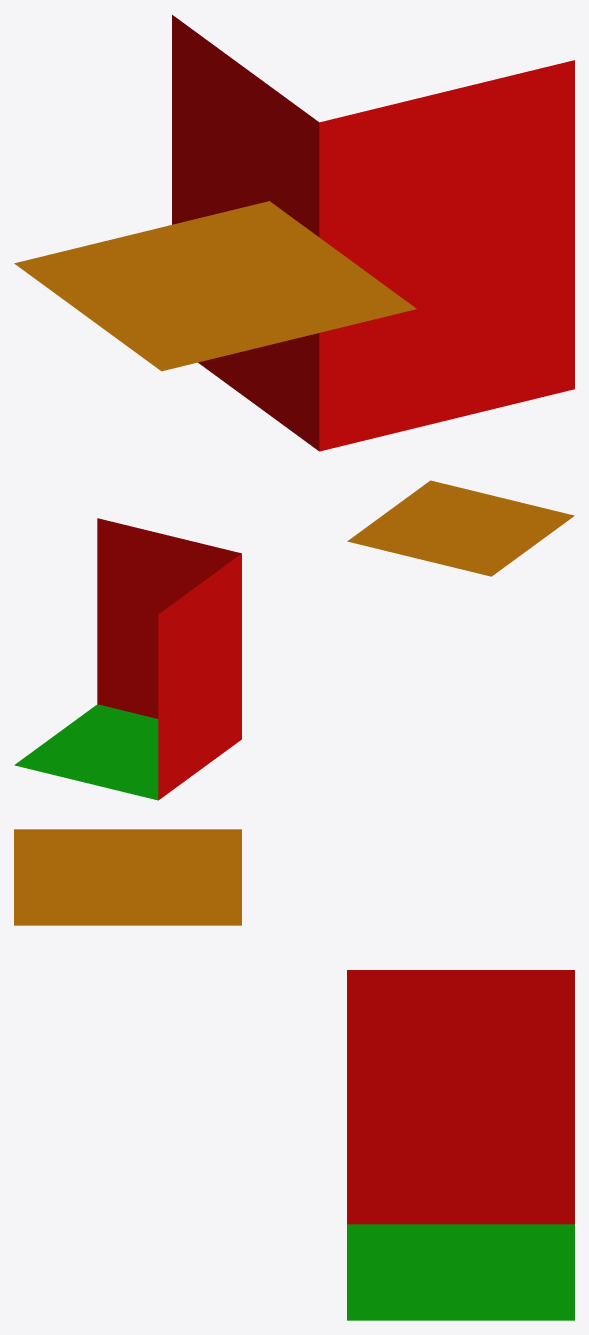
3 renders of one model, top to bottom at view 1: azimuth 30°, elevation 25°; view 2: azimuth 150°, elevation 25°; view 3: azimuth 270°, elevation 25°, orthographic. The views are drawn at different scales.
Parts seen in each view (by area): view 1: None_W_A_E_A_A_S_A_E_None; view 2: None_W_A_E_A_A_S_A_E_None; view 3: None_W_A_E_A_A_S_A_E_None.
Boxes of the visible parts, box(x1,y1,x2,y2) form: None_W_A_E_A_A_S_A_E_None: box(14, 15, 574, 451); None_W_A_E_A_A_S_A_E_None: box(14, 480, 574, 800); None_W_A_E_A_A_S_A_E_None: box(14, 829, 574, 1320).
Size of the model in its own units: 100 by 50 by 100.
